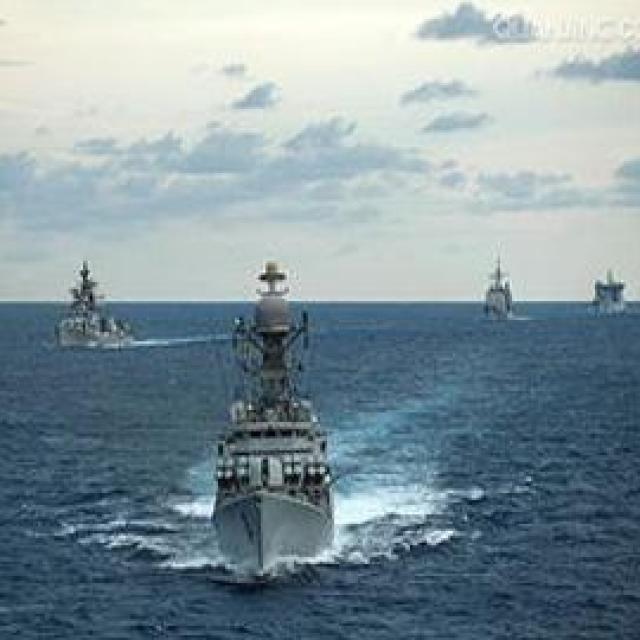navalvessels: (209, 252, 340, 575), (58, 254, 128, 346), (482, 242, 516, 322), (589, 265, 629, 319)
